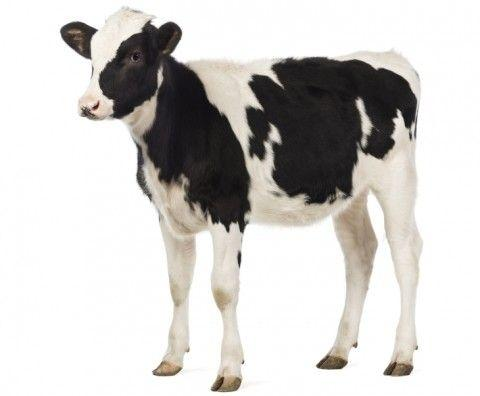cow: (46, 7, 459, 382)
